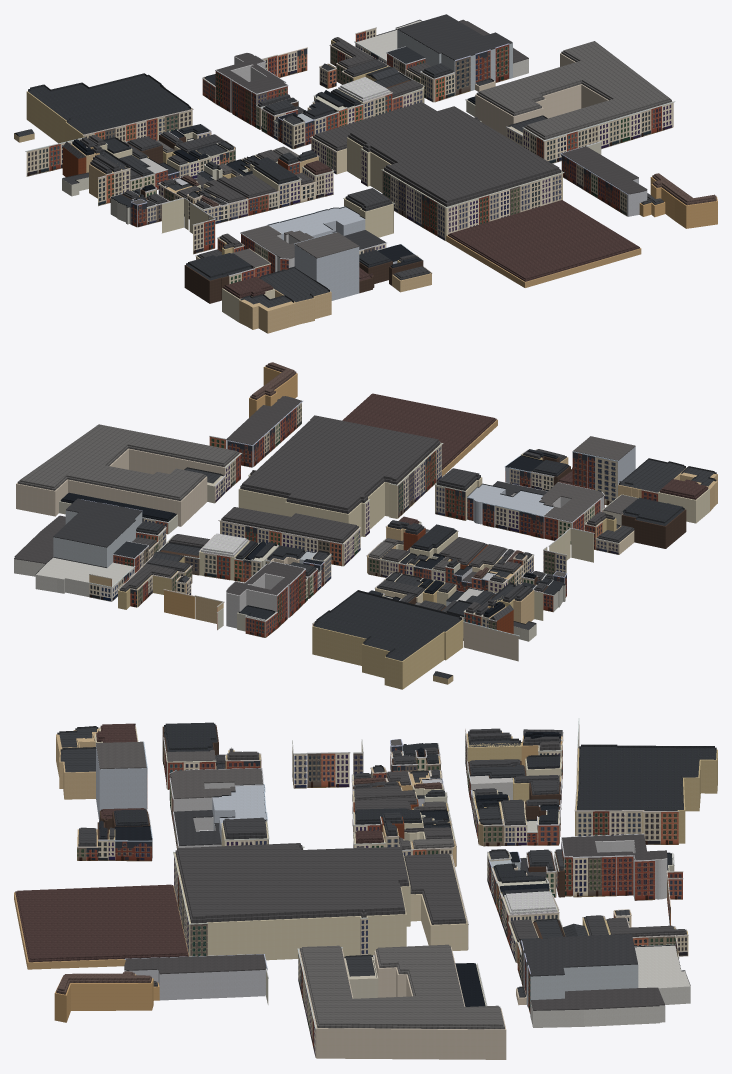
3 views of the same model, one above another, from view 1: azimuth 30°, elevation 25°; view 2: azimuth 150°, elevation 25°; view 3: azimuth 270°, elevation 25° (orthographic). The views are drawn at different scales.
Visible parts, largest first — view 1: bldg_33181245_roof_b, bldg_371714668_roof_b, bldg_497715913_roof_b, bldg_494717402_roof_b, bldg_33181245_facade5, bldg_497715913_facade1, bldg_497715913, bldg_494832638_roof, bldg_453582923, bldg_33181245_facade0, bldg_494679699, bldg_497996232_facade1 (+40 smaller); view 2: bldg_33181245_roof_b, bldg_497715913_roof_b, bldg_497715913, bldg_494717402_roof_b, bldg_371714668_roof_b, bldg_494717402, bldg_33181245, bldg_494832638_roof, bldg_494832640, bldg_497715915_roof_b, bldg_497715915_facade0, bldg_494832638 (+34 smaller); view 3: bldg_33181245_roof_b, bldg_371714668_roof_b, bldg_497715913_roof_b, bldg_33181245, bldg_497715913, bldg_494717402_roof_b, bldg_494832638_roof, bldg_497996232, bldg_494832638, bldg_846924450, bldg_497715915_roof_b, bldg_494832637 (+45 smaller).
Boxes of the visible parts, x1,y1,x2,y2 form: bldg_33181245_roof_b: (350,106,559,203); bldg_371714668_roof_b: (449,200,637,279); bldg_497715913_roof_b: (478,41,670,137); bldg_494717402_roof_b: (30,73,189,131); bldg_33181245_facade5: (445,172,564,234); bldg_497715913_facade1: (543,101,675,163); bldg_497715913: (475,53,673,159); bldg_494832638_roof: (397,14,512,60); bldg_453582923: (294,245,359,300); bldg_33181245_facade0: (381,169,446,240); bldg_494679699: (269,207,365,240); bldg_497996232_facade1: (560,153,628,216); bldg_33181245_roof_b: (242,415,438,510); bldg_497715913_roof_b: (19,424,237,498); bldg_497715913: (16,448,239,526); bldg_494717402_roof_b: (315,590,459,657); bldg_371714668_roof_b: (343,393,494,467); bldg_494717402: (312,619,463,689); bldg_33181245: (238,443,441,536); bldg_494832638_roof: (53,498,142,547); bldg_494832640: (35,557,133,601); bldg_497715915_roof_b: (223,507,356,540); bldg_497715915_facade0: (218,520,344,566); bldg_494832638: (53,510,142,567); bldg_33181245_roof_b: (177,843,407,919); bldg_371714668_roof_b: (17,884,186,959); bldg_497715913_roof_b: (302,944,502,1026); bldg_33181245: (174,851,410,960); bldg_497715913: (298,947,506,1059); bldg_494717402_roof_b: (578,744,714,807); bldg_494832638_roof: (522,934,637,976); bldg_497996232: (124,969,265,1000); bldg_494832638: (523,951,638,1016); bldg_846924450: (54,974,153,1022); bldg_497715915_roof_b: (404,853,464,921); bldg_494832637: (530,1001,665,1027).
Size of the model in its own units: 312 by 26.14 by 298.
Materials: 122 (54 with a texture image).
